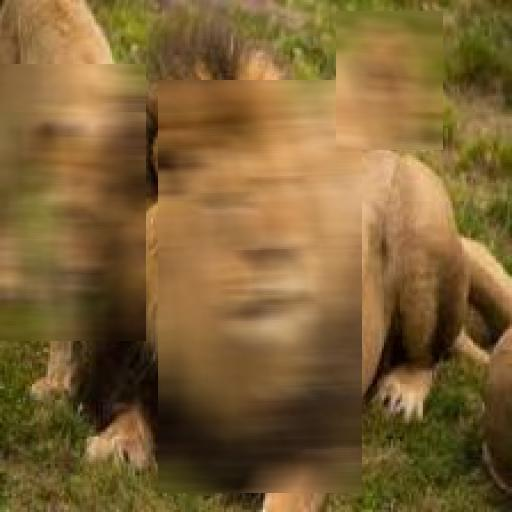lion: (158, 80, 362, 493), (0, 64, 146, 341), (336, 11, 443, 150)
